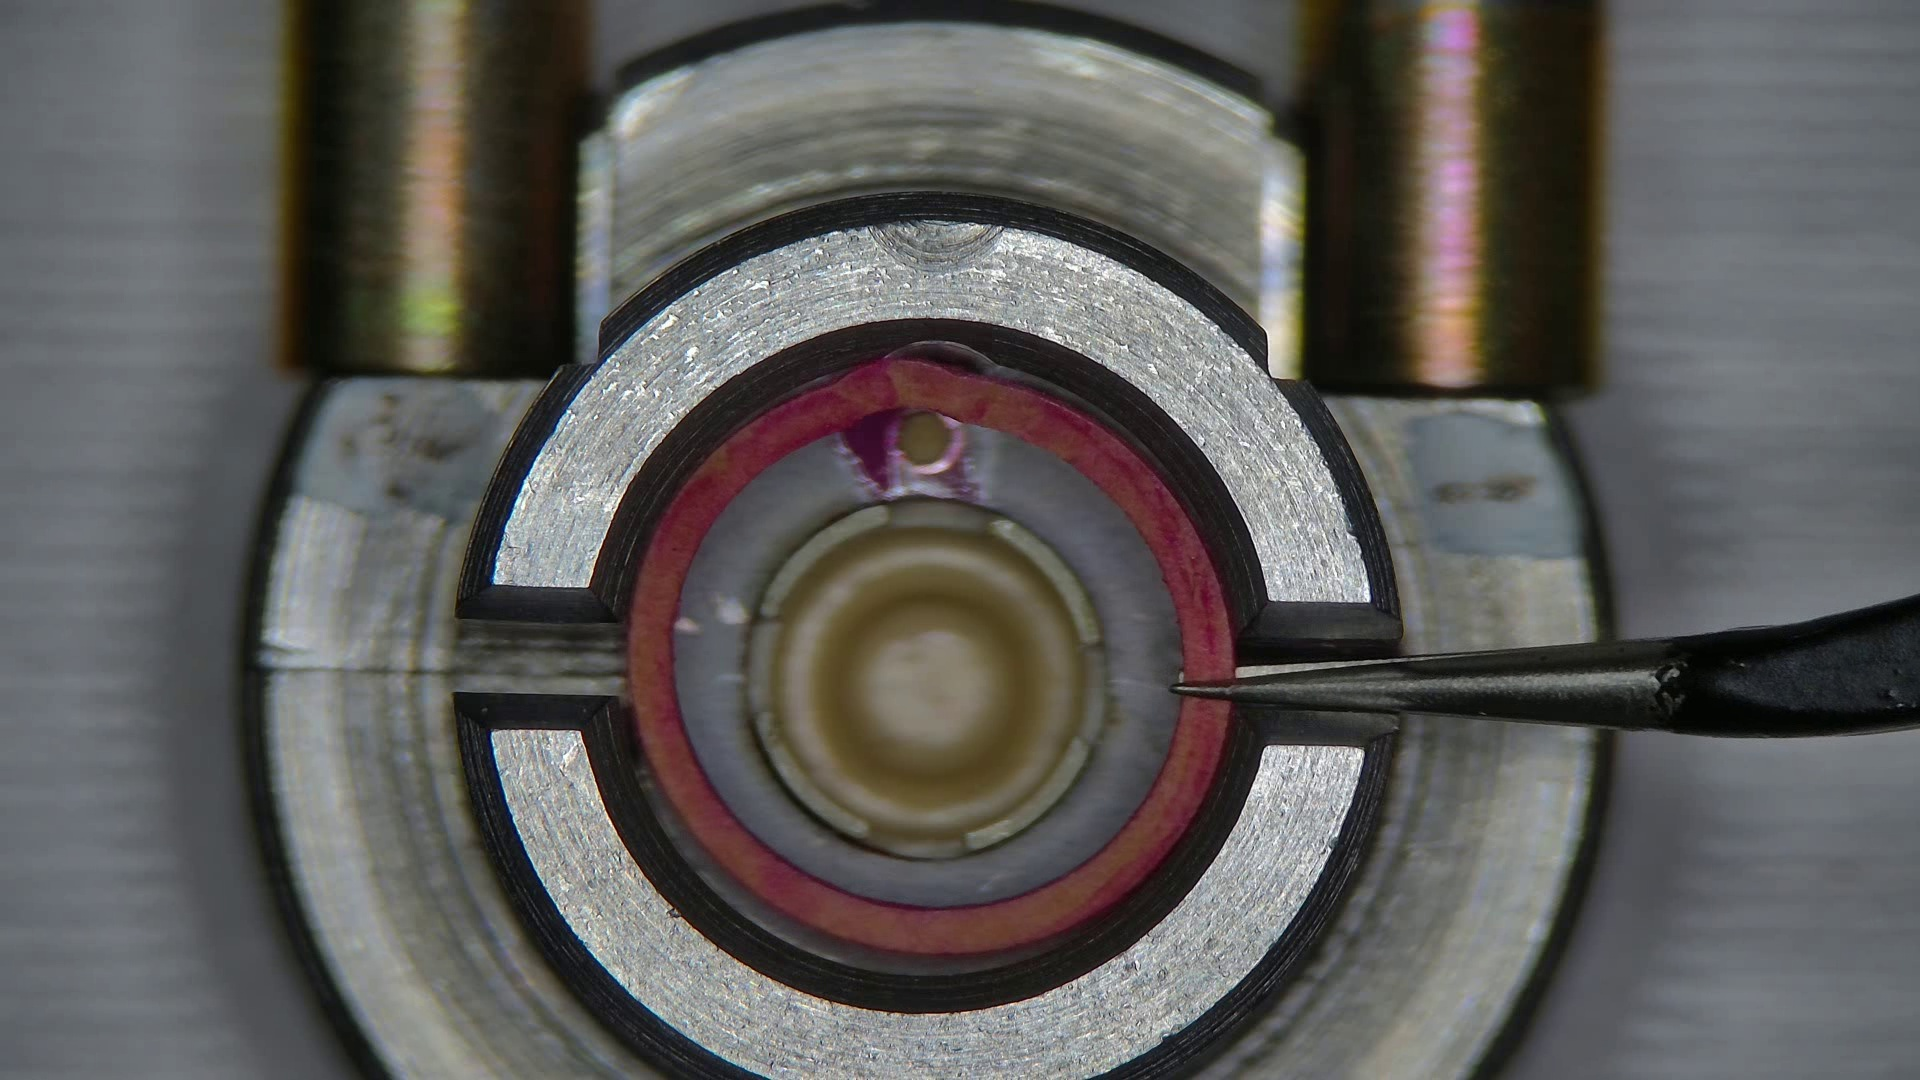GreyOring: (626, 357, 1236, 957)
YellowOring: (675, 411, 1178, 906), (646, 778, 1030, 971)
